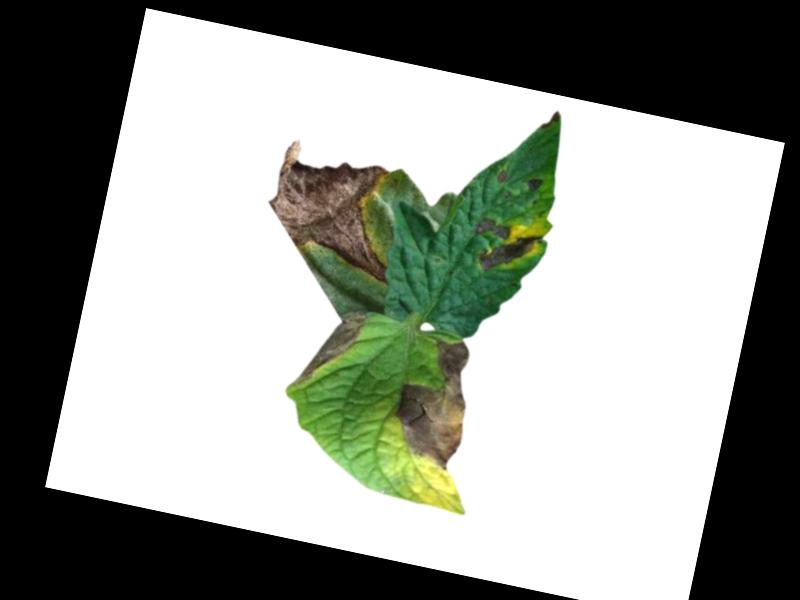Early_blight: (256, 135, 412, 285), (381, 328, 483, 472), (292, 301, 371, 400), (466, 215, 545, 283), (539, 107, 562, 133), (525, 176, 546, 195), (495, 168, 512, 183)
